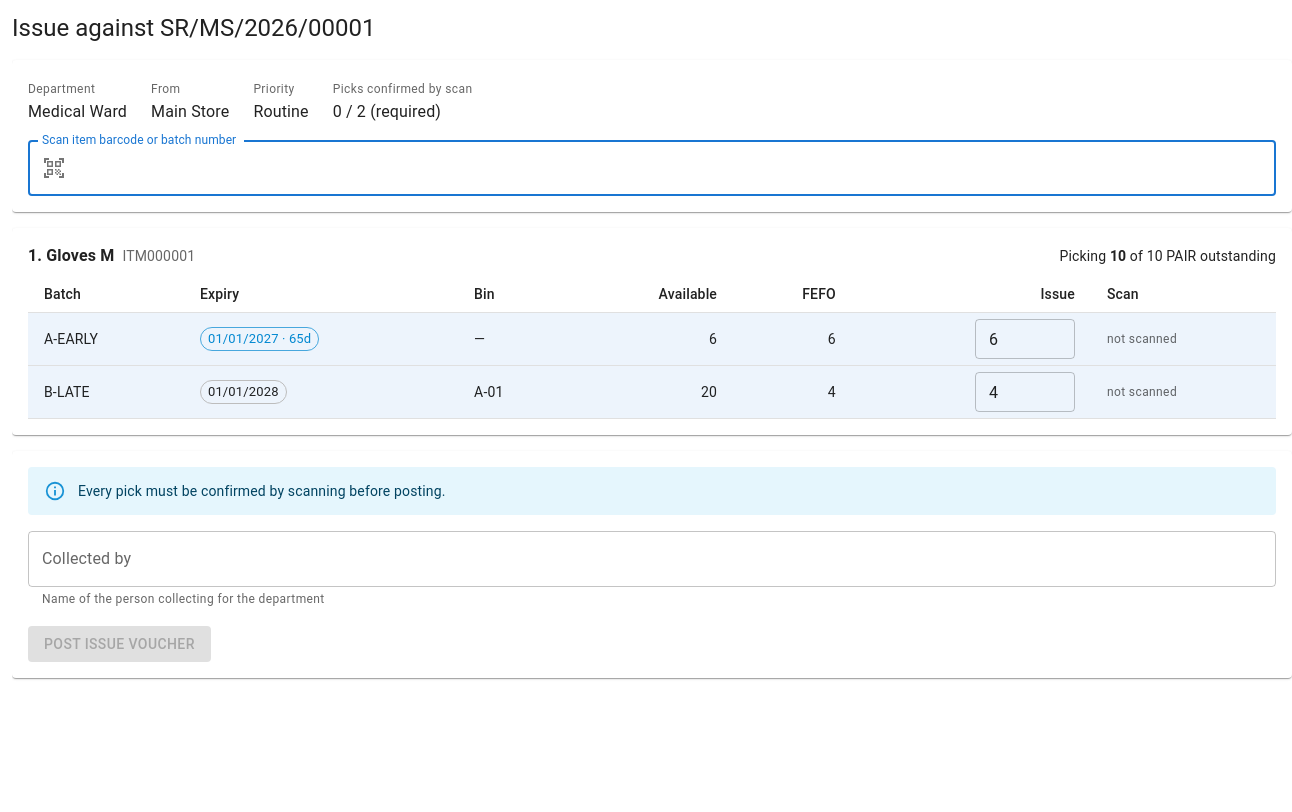
IssueFormPage › requires every pick to be scanned when scanning is mandatory
Expected: the button "Post issue voucher" is disabled, [28, 626, 211, 662]
Type "A-EARLY" into the field labelled "Scan item barcode or batch number".
click(675, 168); type("A-EARLY")  # box [74, 140, 1276, 196]
Then press Enter
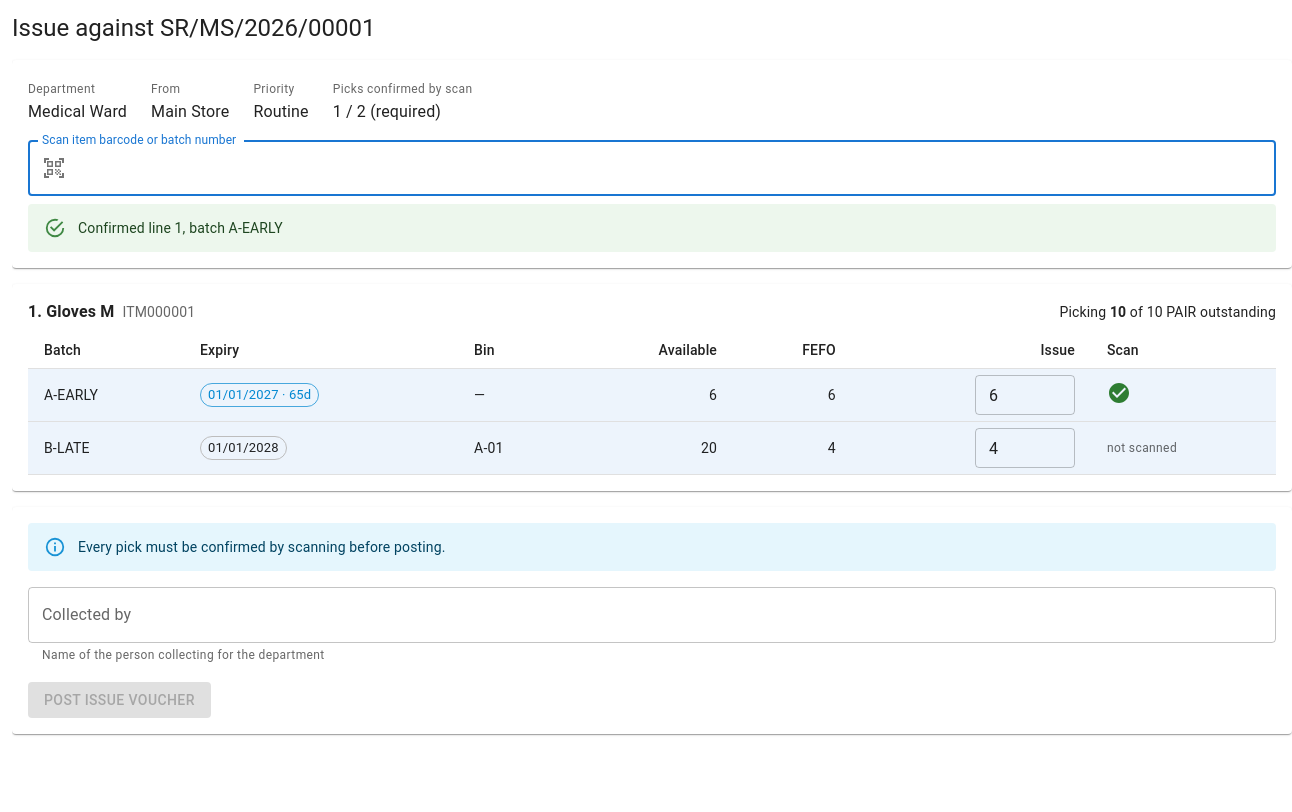
Expected: the button "Post issue voucher" is disabled, [28, 682, 211, 718]
Now the text "Confirmed line 1, batch A-EARLY" is shown, box [78, 220, 283, 236]
Type "B-LATE" into the field labelled "Scan item barcode or batch number".
click(675, 168); type("B-LATE")  # box [74, 140, 1276, 196]
Then press Enter
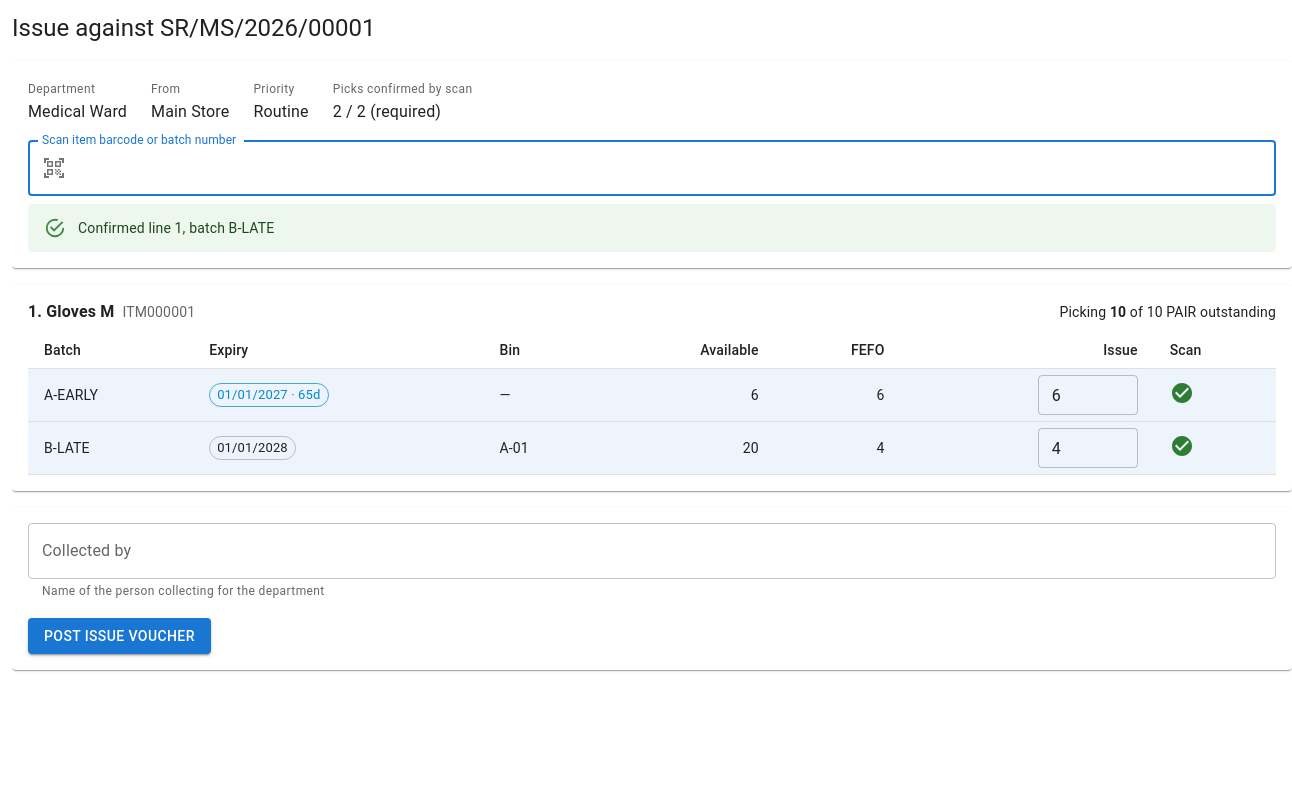
Now the button "Post issue voucher" is enabled, box [28, 618, 211, 654]
